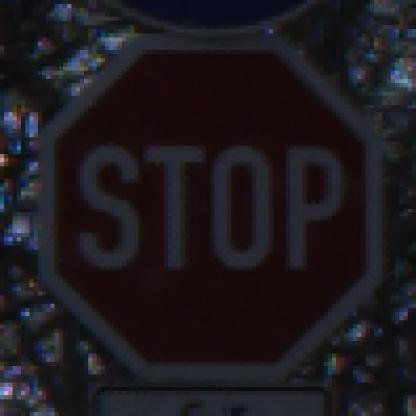stop: (27, 26, 384, 383)
